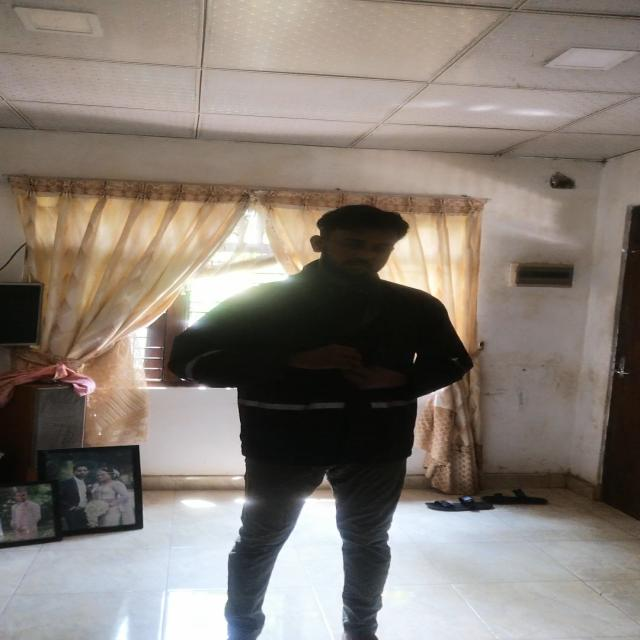Jacket_Wearer: (182, 265, 477, 473)
Person: (177, 197, 469, 640)
